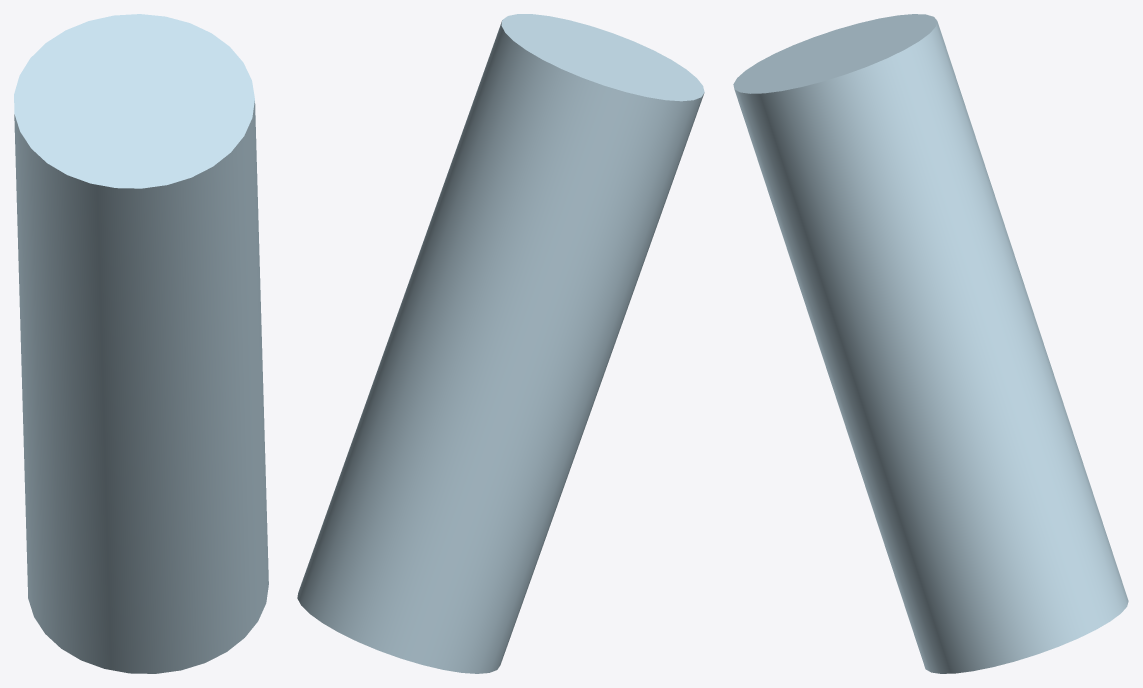
File: PLACEHOLDER_Red_Laser.gltf
3 views of the same model, side by side, from view 1: azimuth 30°, elevation 25°; view 2: azimuth 150°, elevation 25°; view 3: azimuth 270°, elevation 25° (orthographic). The views are drawn at different scales.
Visible parts, largest first — view 1: mesh32725, mesh32724; view 2: mesh32725, mesh32724; view 3: mesh32725, mesh32724.
Part boxes in pixels (left/top/right/bottom): mesh32725: left=14, top=101, right=268, bottom=673; mesh32724: left=14, top=14, right=254, bottom=188; mesh32725: left=297, top=20, right=704, bottom=673; mesh32724: left=501, top=14, right=704, bottom=101; mesh32725: left=734, top=21, right=1128, bottom=673; mesh32724: left=733, top=14, right=937, bottom=93.
Bounding box in the file's own units: 0.0161 × 0.0317 × 0.019.
